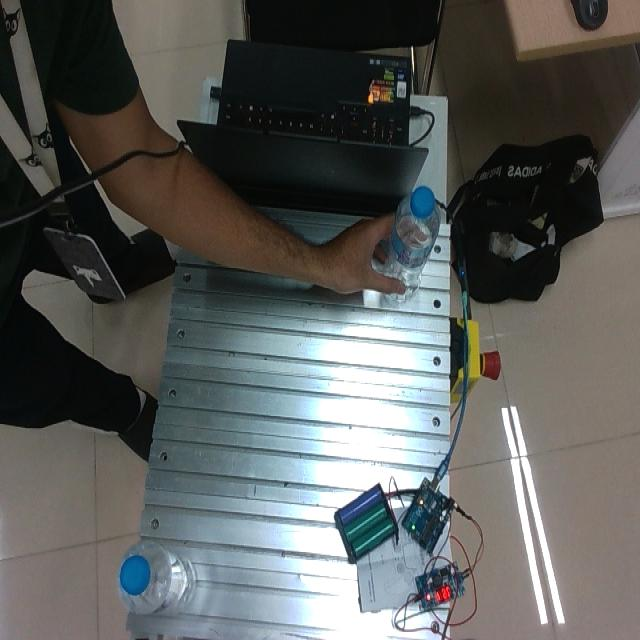lavie: (373, 185, 441, 307), (117, 540, 196, 615)
